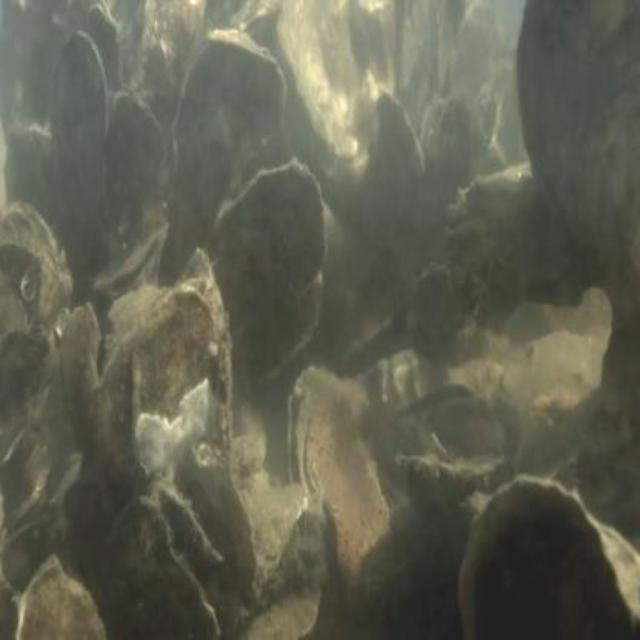Oyster-Closed: (522, 0, 640, 312), (459, 476, 640, 640), (203, 156, 327, 390), (90, 296, 217, 488), (177, 28, 287, 243), (285, 364, 393, 581), (47, 31, 108, 243), (278, 0, 360, 143), (359, 97, 427, 230), (108, 83, 166, 195), (86, 0, 123, 91), (227, 2, 279, 41), (473, 81, 502, 142)
Oyster-Open: (102, 480, 227, 640), (95, 224, 170, 310)
